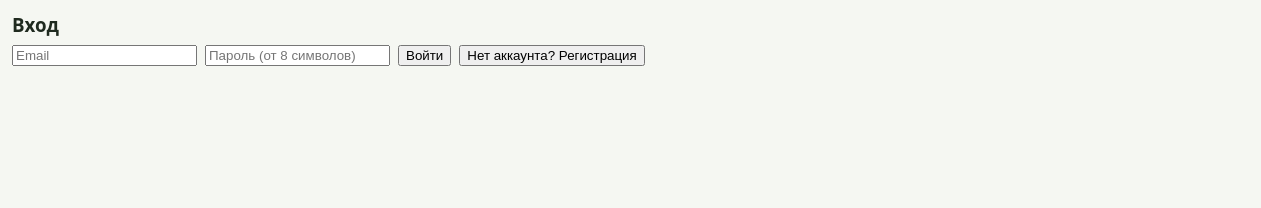
it: LoginForm › регистрация: ошибки валидации (details) выводятся списком
The width and height of the screenshot is (1261, 208).
Click the button "Нет аккаунта? Регистрация" at (552,56), box [459,45,645,66]
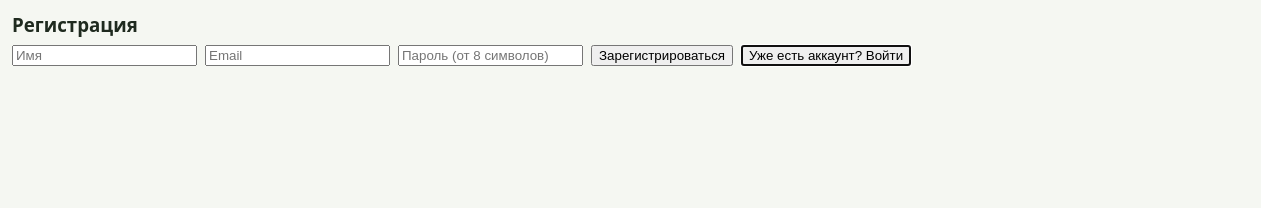
Type "Тест" into the field labelled "Имя" at (104,56), box [12,45,197,66]
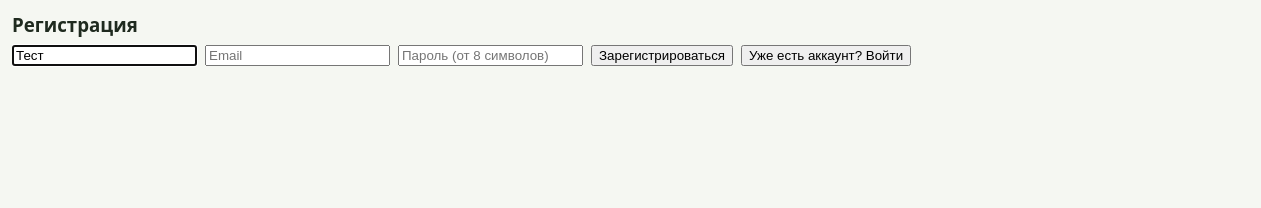
Type "a@test.kz" into the field labelled "Email" at (298,56), box [205,45,390,66]
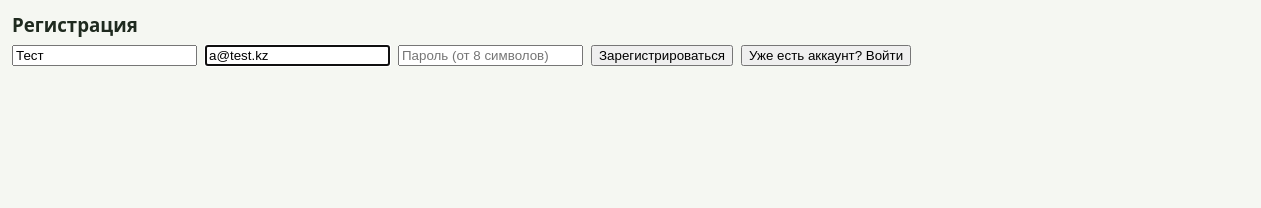
Type "12345678" into the password field labelled "Пароль" at (490,56), box [398,45,583,66]
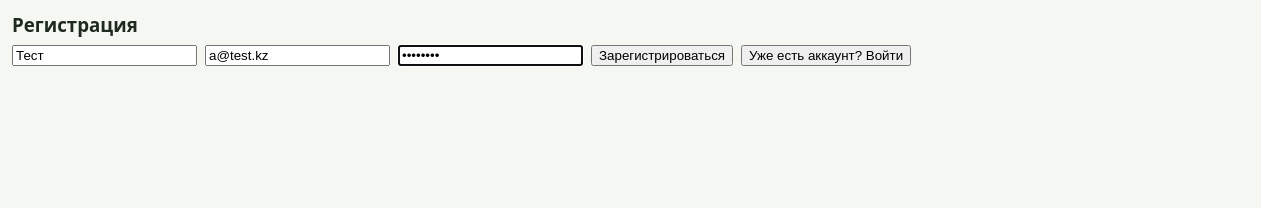
Click the button "Зарегистрироваться" at (662,56), box [591,45,733,66]
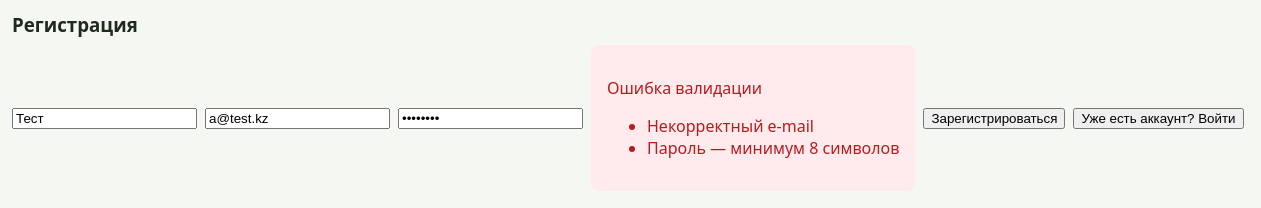
expect the list item "Некорректный e-mail" is shown: met, box [647,115,814,137]
expect the list item "Пароль — минимум 8 символов" is shown: met, box [647,137,899,159]
